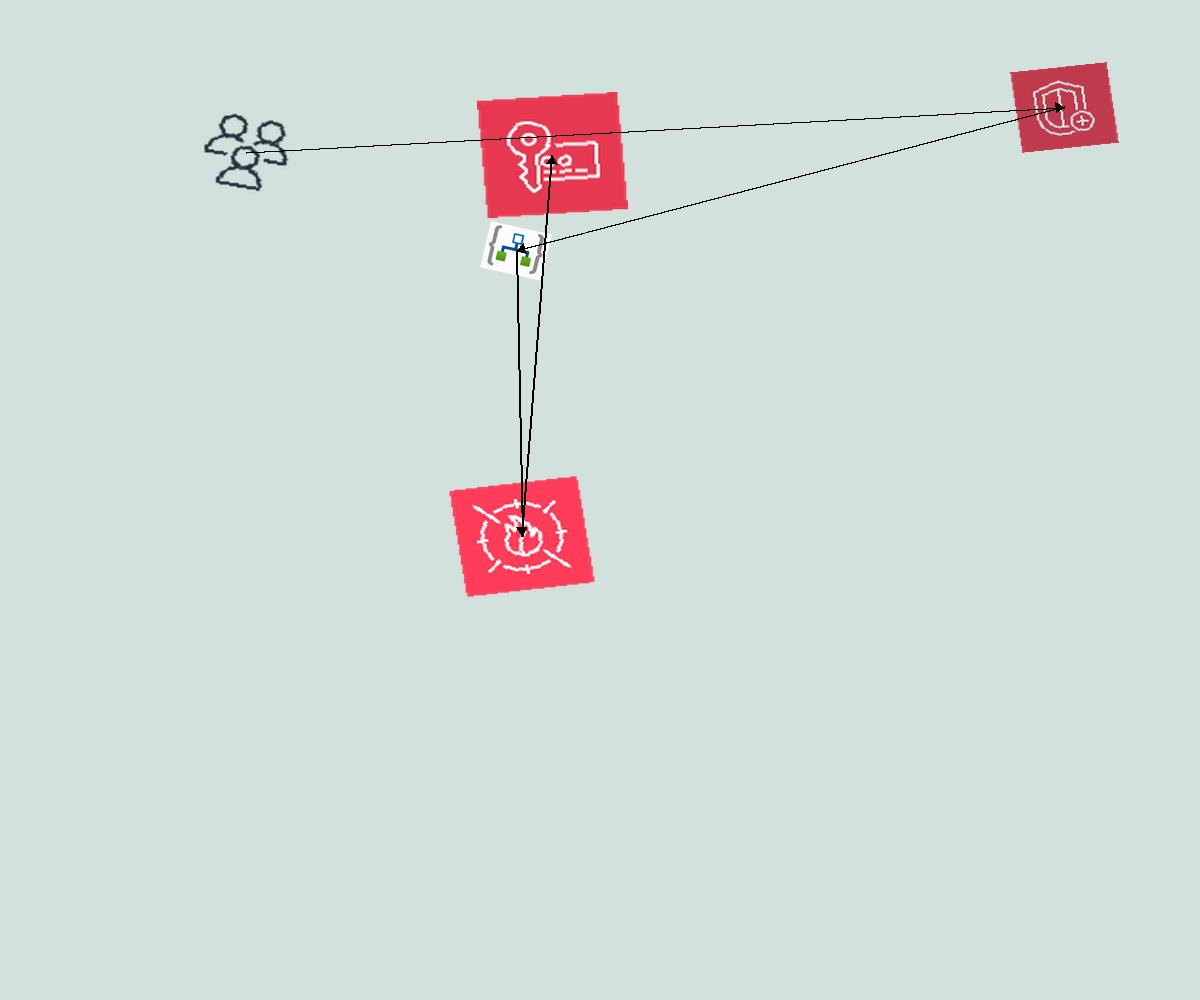AWS-Key-Management-Service: (477, 92, 628, 218)
AWS-Res_Users: (191, 106, 302, 199)
AWS-Shield: (1010, 62, 1119, 153)
AWS-WAF: (448, 475, 596, 598)
Azure_integration-204-Logic-Apps: (480, 221, 552, 281)
